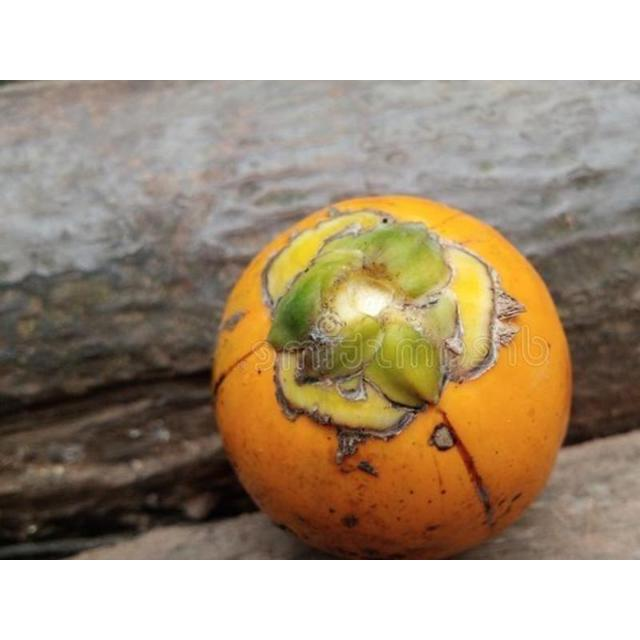good: (213, 199, 573, 559)
